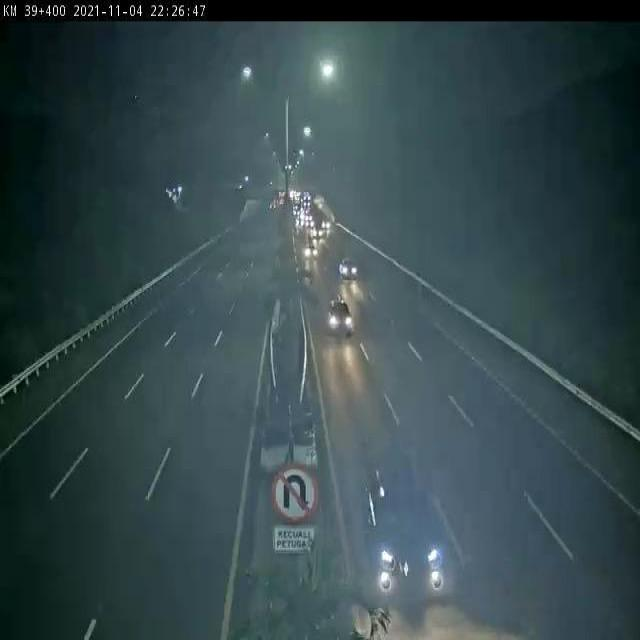car: (365, 469, 447, 602), (325, 301, 354, 335)
